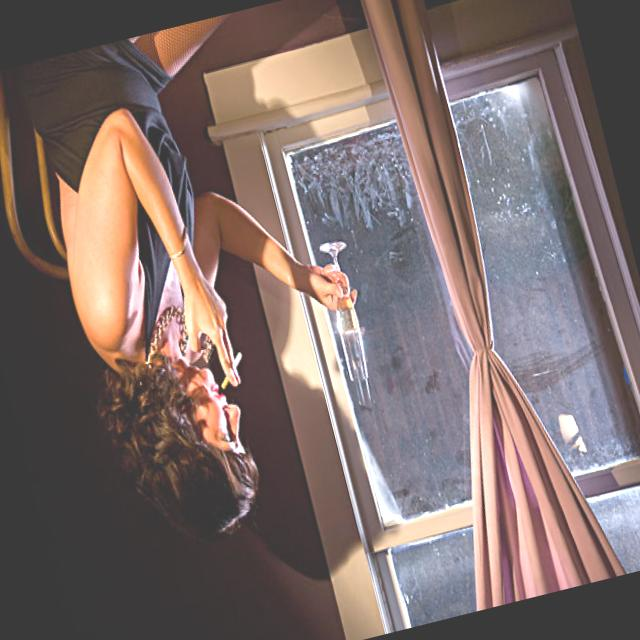smoke: (228, 348, 245, 372)
